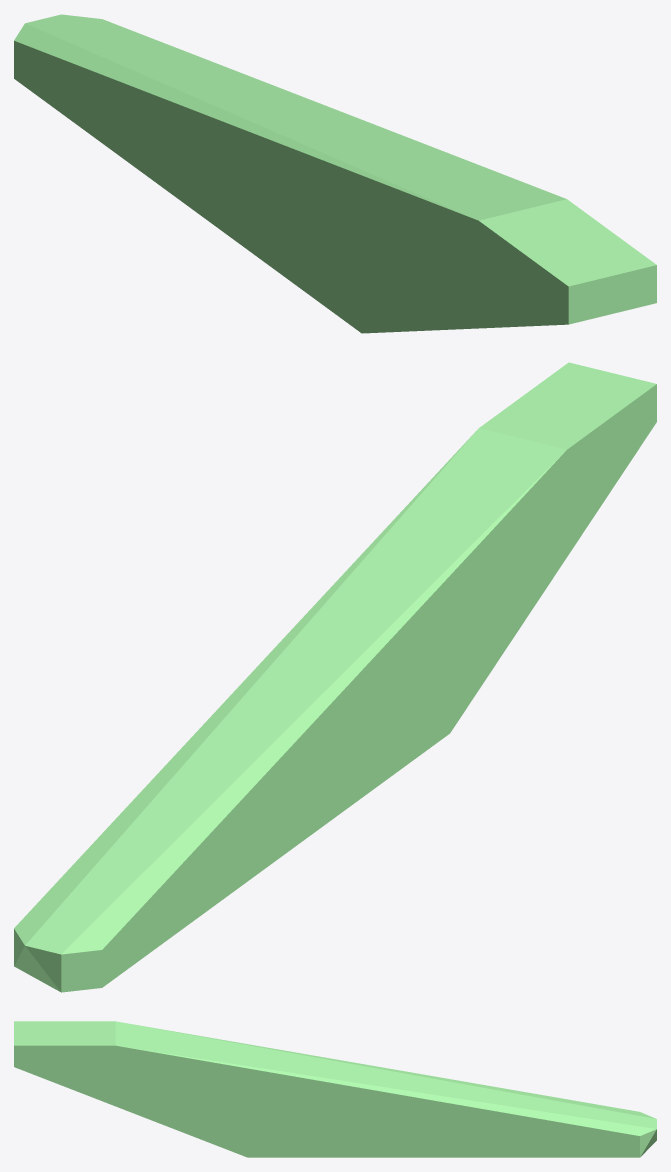
File: palle_scrotali_buone_Lp1_respondable_PSM2_coll_2.dae
3 views of the same model, one above another, from view 1: azimuth 30°, elevation 25°; view 2: azimuth 150°, elevation 25°; view 3: azimuth 270°, elevation 25° (orthographic). The views are drawn at different scales.
Parts seen in each view (by area): view 1: Node_000002334E242E10; view 2: Node_000002334E242E10; view 3: Node_000002334E242E10.
Part boxes in pixels (x1=…): Node_000002334E242E10: x1=14, y1=14, x2=656, y2=333; Node_000002334E242E10: x1=14, y1=362, x2=656, y2=992; Node_000002334E242E10: x1=14, y1=1021, x2=656, y2=1157.
Bounding box in the file's own units: 0.0171 × 0.0365 × 0.19.
